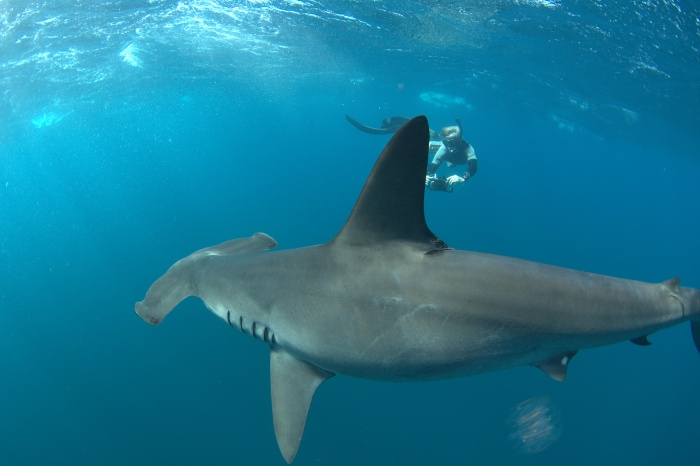Hammer: (116, 100, 700, 461)
